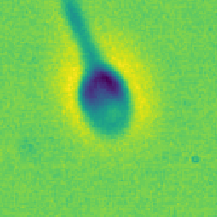normal: (57, 1, 111, 64)
